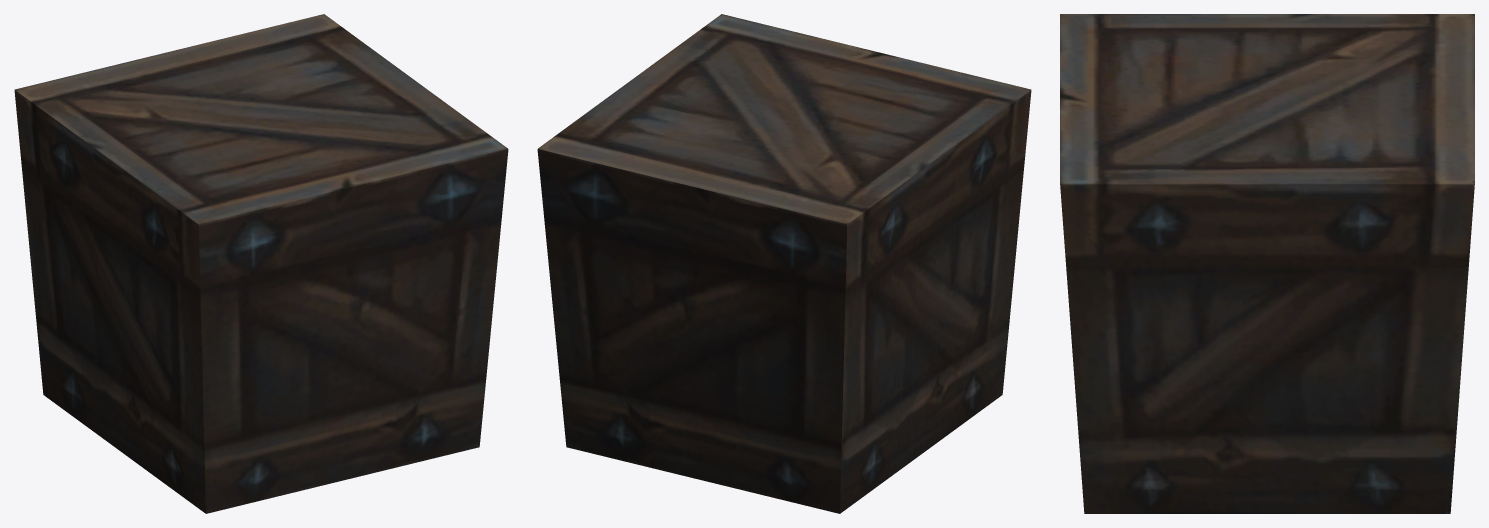
The model's file is mine_crate01.fbx.
3 views of the same model, side by side, from view 1: azimuth 30°, elevation 25°; view 2: azimuth 150°, elevation 25°; view 3: azimuth 270°, elevation 25° (orthographic). The views are drawn at different scales.
Visible parts, largest first — view 1: obj0.012; view 2: obj0.012; view 3: obj0.012.
Boxes of the visible parts, <box> form: obj0.012: <box>14,14,508,513</box>; obj0.012: <box>537,14,1031,513</box>; obj0.012: <box>1060,14,1474,513</box>.
Bounding box in the file's own units: 1.19 × 1.11 × 1.23.
